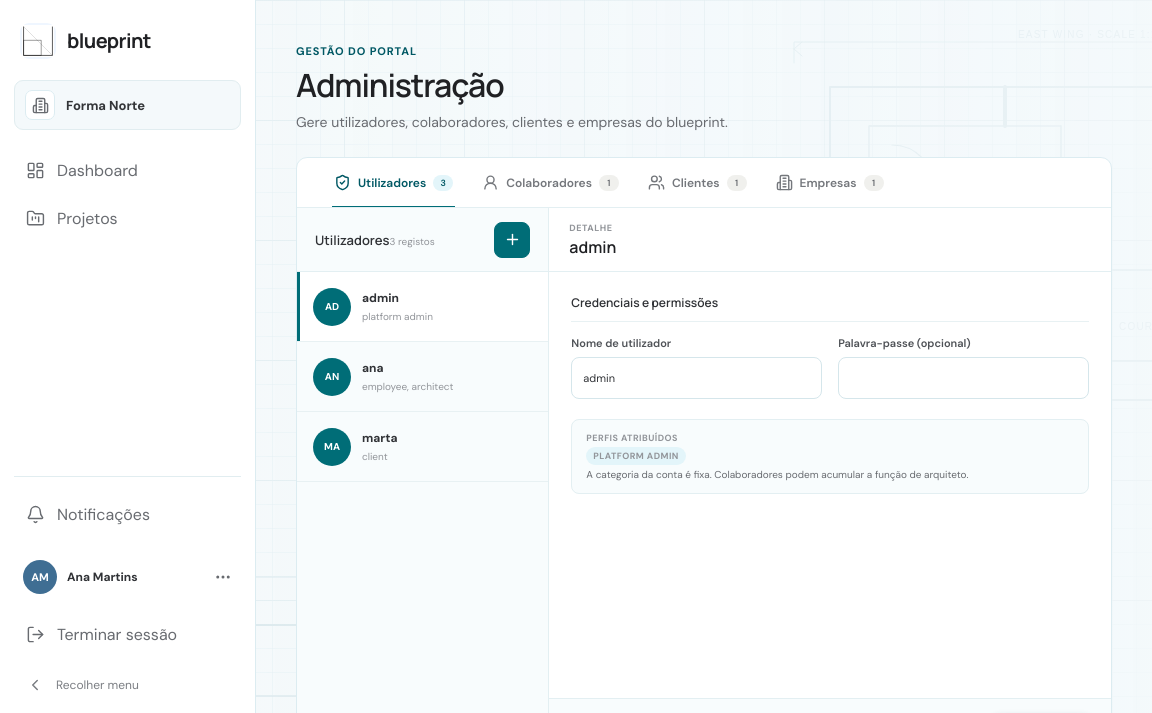
Scenario: AdministrationPage › creates a platform administrator with credentials only
The image size is (1152, 713).
Expected: the field showing "admin" is shown, [571,357,822,399]
Click the button named "Criar utilizador".
click(512, 240)  # box [494,222,530,258]
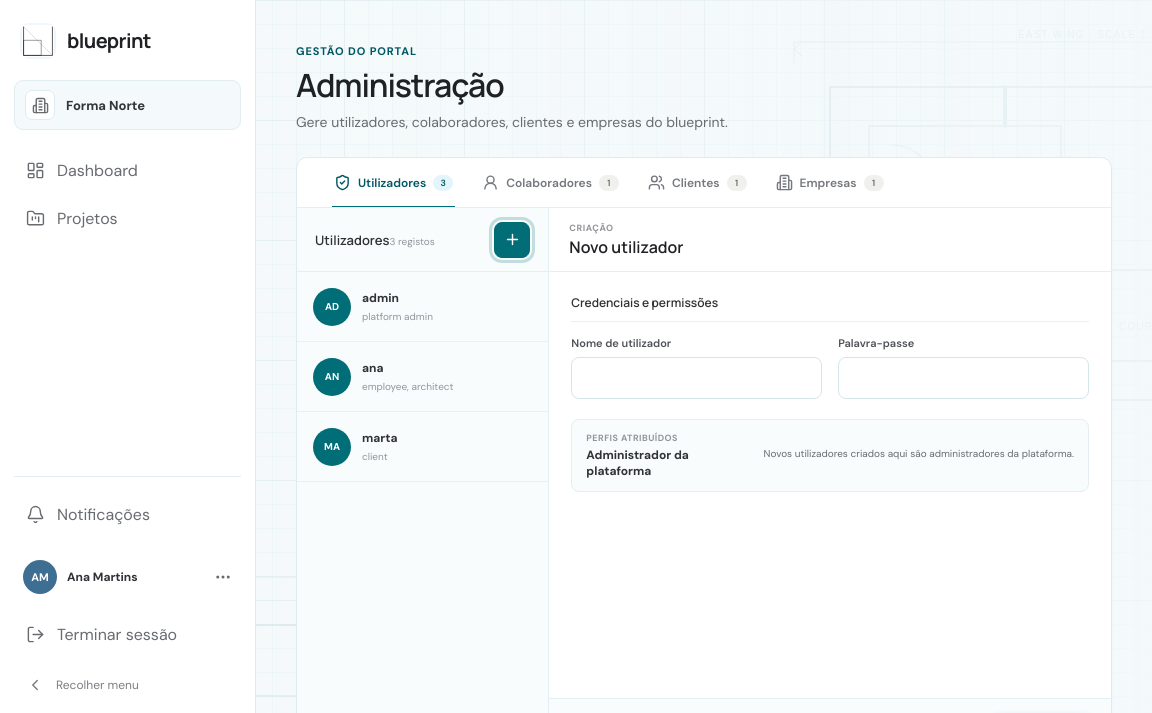
Type "novo-admin" into the field labelled "Nome de utilizador".
click(697, 378); type("novo-admin")  # box [571,357,822,399]
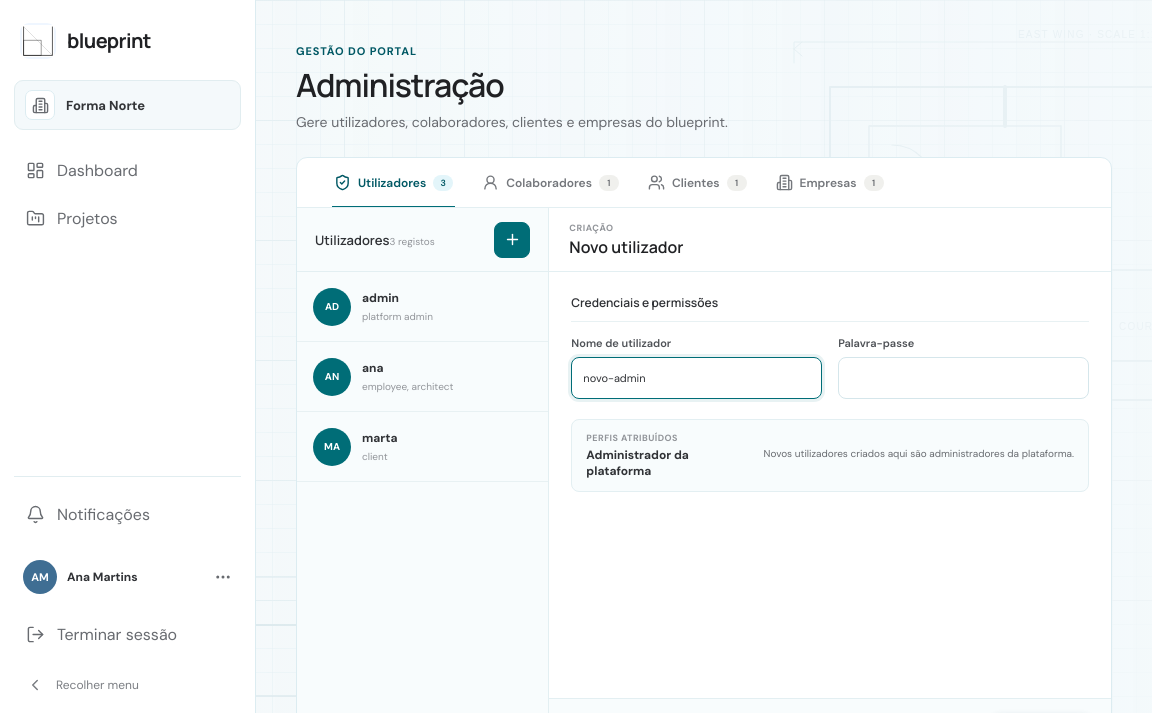
Type "secret" into the password field labelled "Palavra-passe".
click(964, 378); type("secret")  # box [838,357,1089,399]
(page scrolled)
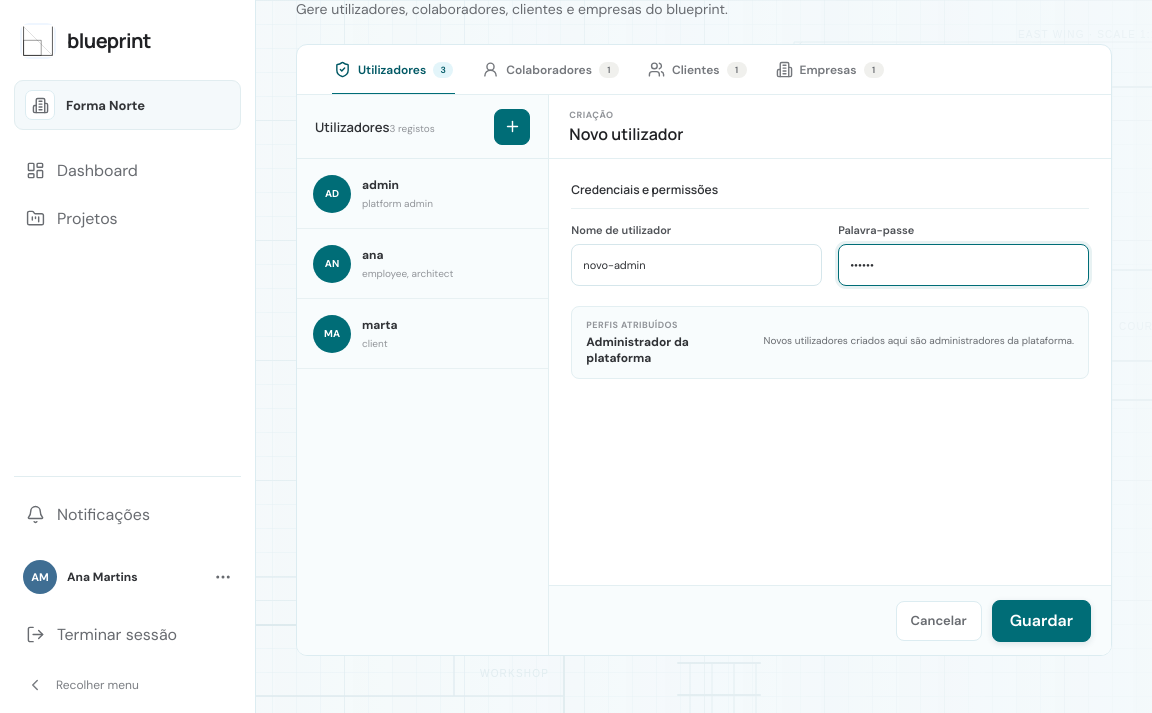
Click the button "Guardar".
click(1041, 620)  # box [992,600,1091,642]
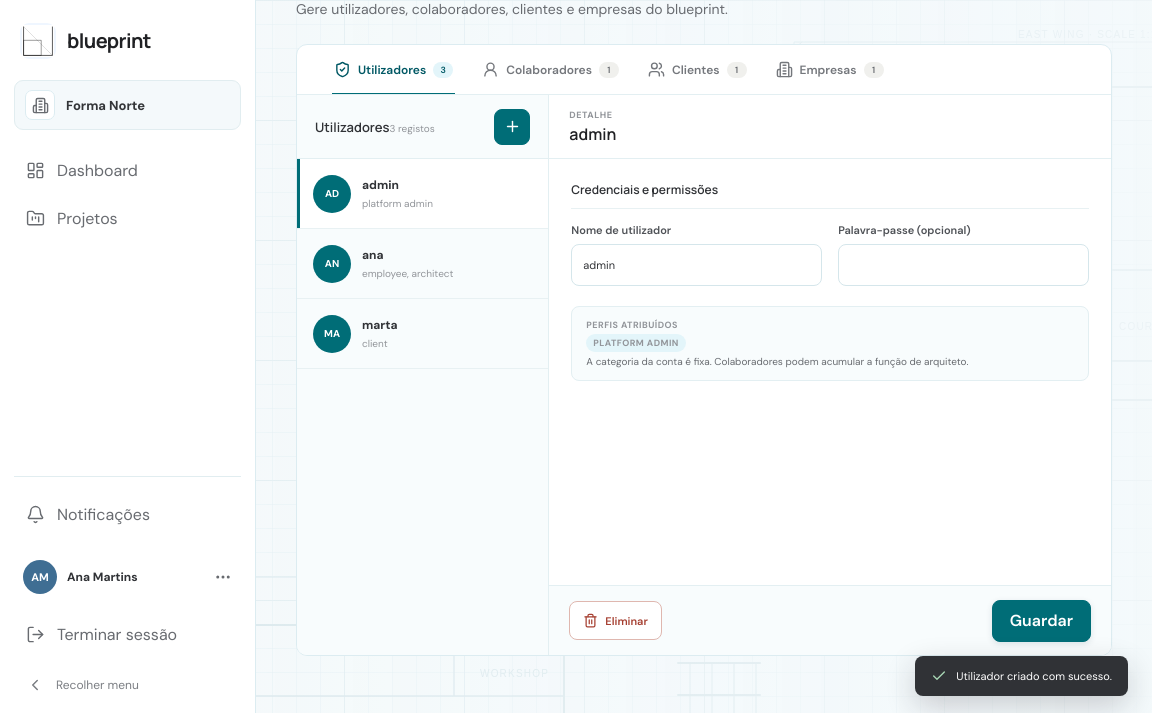
Now the message shows "Utilizador criado", box [956,669,1112,683]
